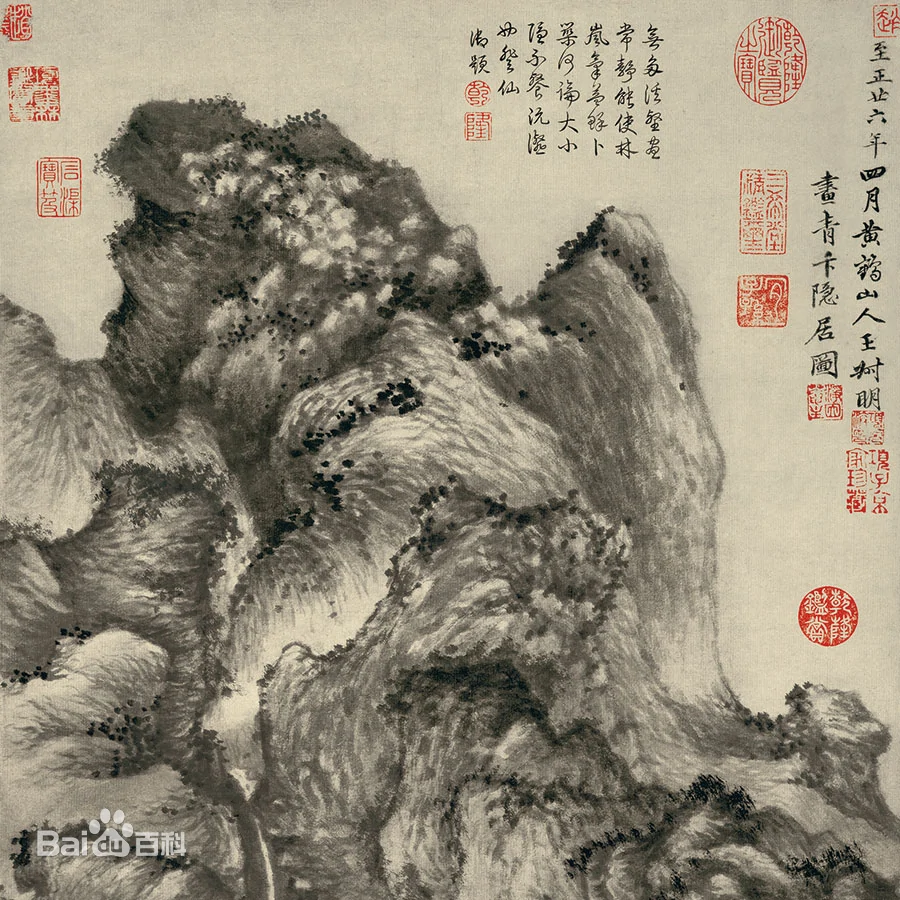mountain: (102, 100, 511, 385), (306, 472, 661, 714)
range: (227, 186, 705, 604)
